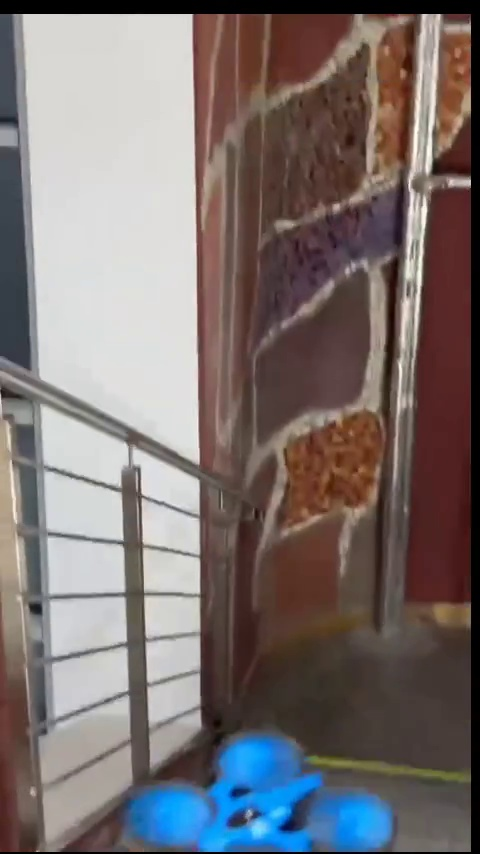drone: (123, 730, 397, 845)
